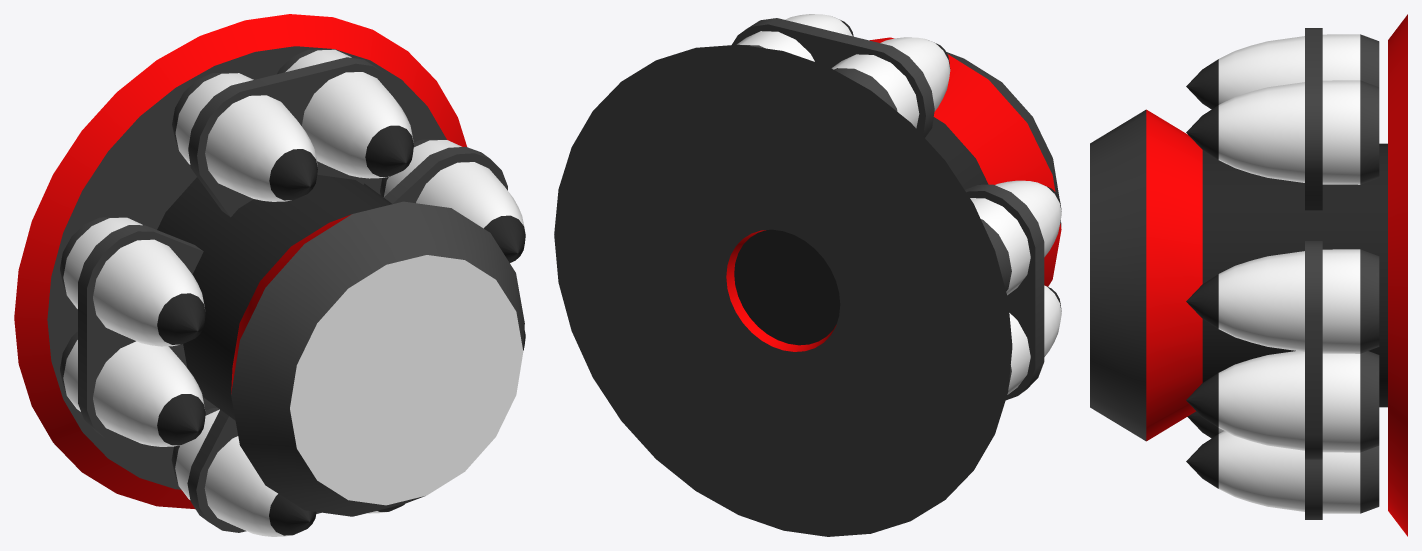
File: munitionStorage.obj
3 renders of one model, left to right at view 1: azimuth 30°, elevation 25°; view 2: azimuth 150°, elevation 25°; view 3: azimuth 270°, elevation 25°, orthographic.
Visible parts, largest first — view 1: Cylinder032, Tube001, Cone012, Cone018, Cone017, Cone011, Cone013, Cylinder035, Cylinder038, Cone016, Cylinder036, Cylinder037; view 2: Tube001, Cylinder032, Cone018, Cone012, Cylinder038, Cylinder035, Cone017, Cone011; view 3: Cylinder032, Cone016, Cone011, Cone015, Tube001, Cone014, Cone012, Cylinder037, Cylinder035, Cylinder036, Cone013.
Part boxes in pixels (bbox=[...]): Cylinder032: bbox=[157, 174, 524, 516]; Tube001: bbox=[14, 14, 466, 509]; Cone012: bbox=[172, 72, 317, 201]; Cone018: bbox=[60, 217, 205, 346]; Cone017: bbox=[60, 331, 205, 446]; Cone011: bbox=[277, 49, 413, 178]; Cone013: bbox=[171, 408, 316, 536]; Cylinder035: bbox=[188, 57, 397, 217]; Cylinder038: bbox=[78, 225, 203, 443]; Cone016: bbox=[380, 139, 525, 262]; Cylinder036: bbox=[187, 409, 321, 532]; Cylinder037: bbox=[384, 146, 507, 203]; Tube001: bbox=[554, 44, 1012, 536]; Cylinder032: bbox=[734, 37, 1061, 345]; Cone018: bbox=[970, 180, 1061, 295]; Cone012: bbox=[831, 37, 950, 128]; Cylinder038: bbox=[965, 184, 1044, 400]; Cylinder035: bbox=[732, 18, 934, 137]; Cone017: bbox=[1007, 285, 1061, 394]; Cone011: bbox=[737, 14, 853, 61]; Cylinder032: bbox=[1090, 109, 1387, 441]; Cone016: bbox=[1186, 249, 1379, 353]; Cone011: bbox=[1186, 80, 1379, 184]; Cone015: bbox=[1186, 351, 1379, 452]; Tube001: bbox=[1388, 14, 1407, 536]; Cone014: bbox=[1186, 431, 1379, 513]; Cone012: bbox=[1186, 34, 1379, 109]; Cylinder037: bbox=[1305, 241, 1322, 459]; Cylinder035: bbox=[1305, 28, 1322, 210]; Cylinder036: bbox=[1305, 460, 1322, 519]; Cone013: bbox=[1187, 411, 1224, 438].
Size of the model in its own units: 1.58 by 1.58 by 0.9597.
